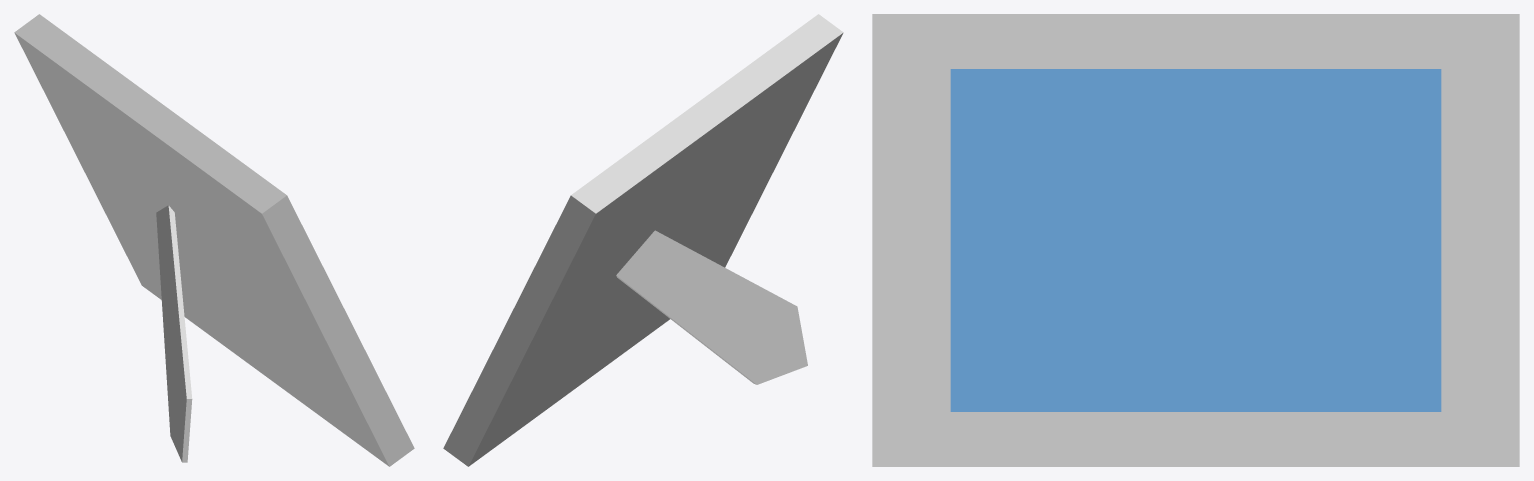
Rendered from Picture Frame.fbx.
3 views of the same model, side by side, from view 1: azimuth 30°, elevation 25°; view 2: azimuth 150°, elevation 25°; view 3: azimuth 270°, elevation 25° (orthographic). The views are drawn at different scales.
Parts seen in each view (by area): view 1: Cube.001; view 2: Cube.001; view 3: Cube.001.
Part boxes in pixels (<box>): Cube.001: <box>14,14,414,466</box>; Cube.001: <box>443,14,843,466</box>; Cube.001: <box>872,14,1519,466</box>.
Bounding box in the file's own units: 117 × 191 × 286.
